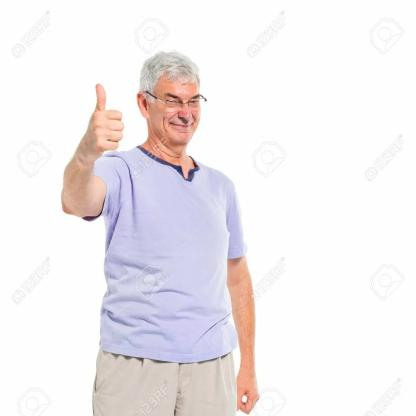Thumbs-Up: (82, 83, 124, 150)
